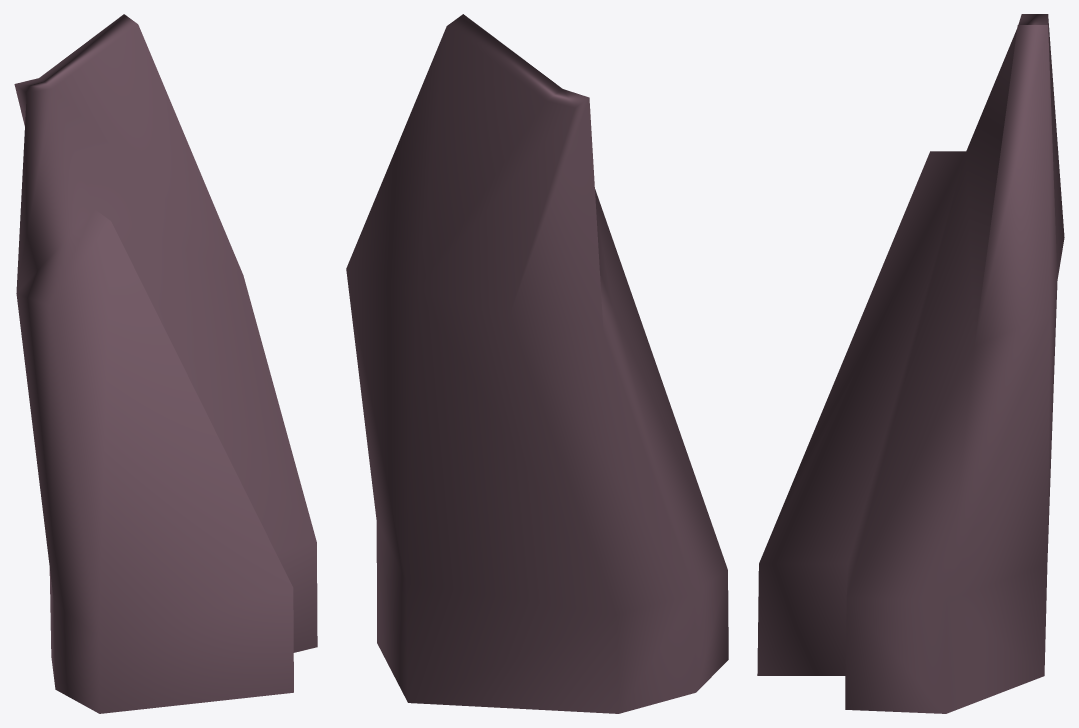
Rendered from LevelRock3.fbx.
3 views of the same model, side by side, from view 1: azimuth 30°, elevation 25°; view 2: azimuth 150°, elevation 25°; view 3: azimuth 270°, elevation 25° (orthographic). The views are drawn at different scales.
Parts seen in each view (by area): view 1: shitrock3; view 2: shitrock3; view 3: shitrock3.
Part boxes in pixels (left/top/right/bottom): shitrock3: left=14, top=14, right=317, bottom=713; shitrock3: left=346, top=14, right=728, bottom=713; shitrock3: left=757, top=14, right=1064, bottom=713.
Size of the model in its own units: 1538 by 3487 by 1534.
